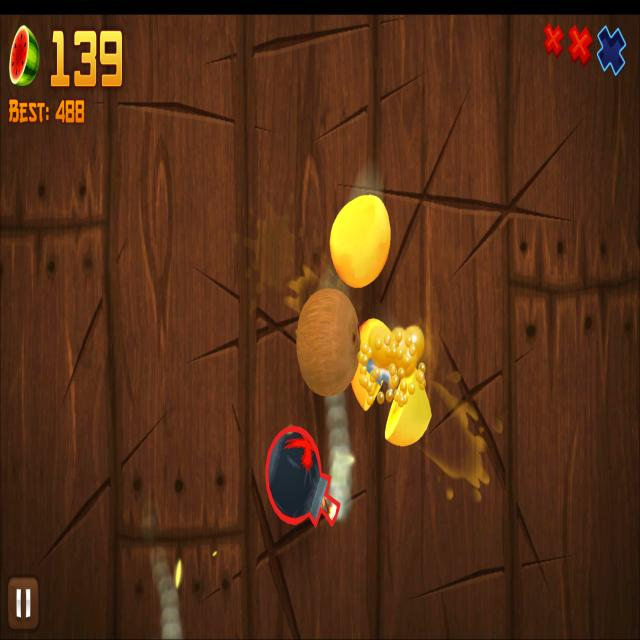bomb: (265, 427, 341, 528)
fruit: (296, 288, 361, 396), (330, 194, 390, 287)
